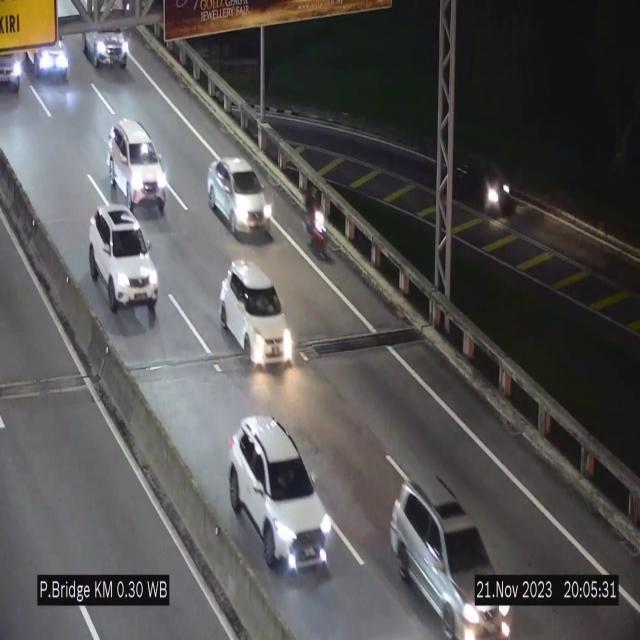Car: (391, 476, 511, 640), (229, 416, 333, 574), (219, 260, 293, 366), (89, 206, 158, 317), (108, 120, 166, 214), (207, 158, 273, 238), (81, 2, 133, 74), (26, 28, 72, 80), (0, 36, 26, 98)
Motorcycle: (303, 192, 331, 268)
